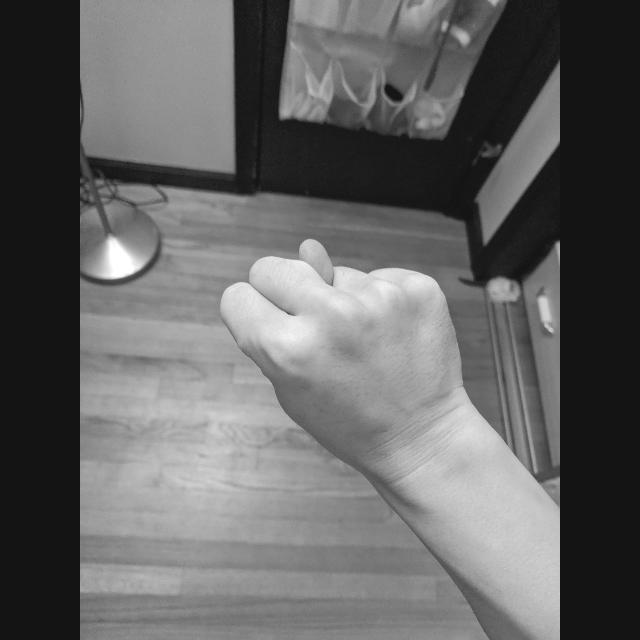N: (216, 234, 464, 481)
